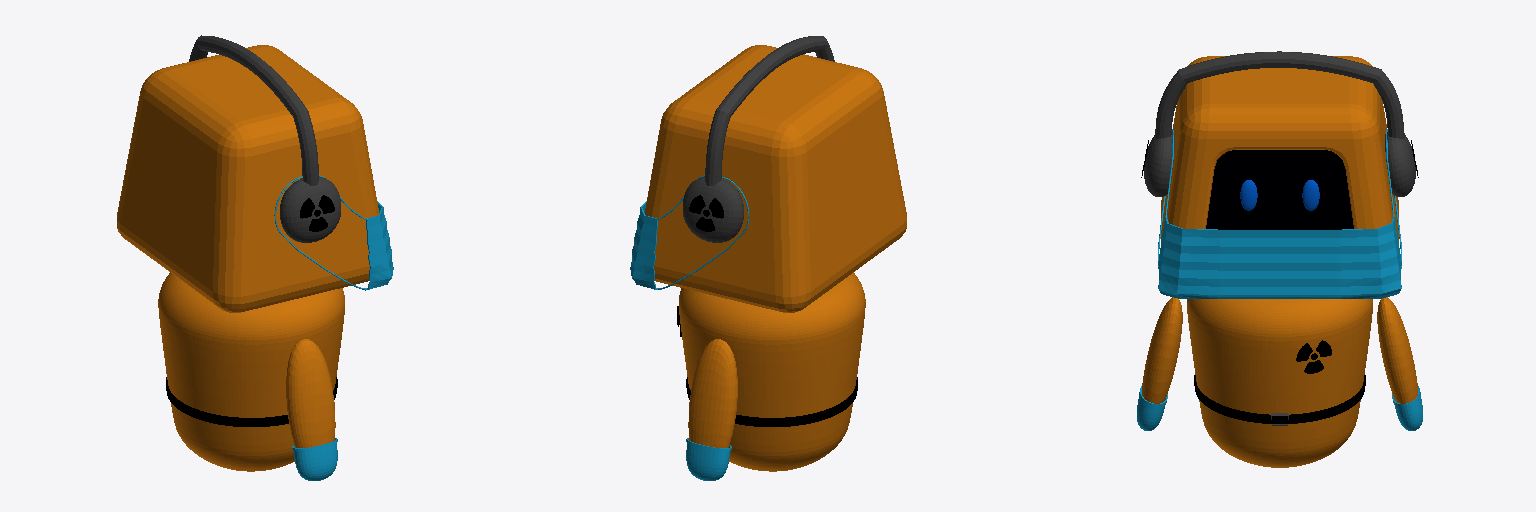
The model's file is tuddy.obj.
3 renders of one model, left to right at view 1: azimuth 30°, elevation 25°; view 2: azimuth 150°, elevation 25°; view 3: azimuth 270°, elevation 25°, orthographic.
Parts seen in each view (by area): view 1: Tuddy; view 2: Tuddy; view 3: Tuddy.
Part boxes in pixels (x1,y1,x2,y2): Tuddy: (117,35,393,480); Tuddy: (630,36,906,480); Tuddy: (1137,51,1422,467).
Bounding box in the file's own units: 2.51 × 5.42 × 3.48.